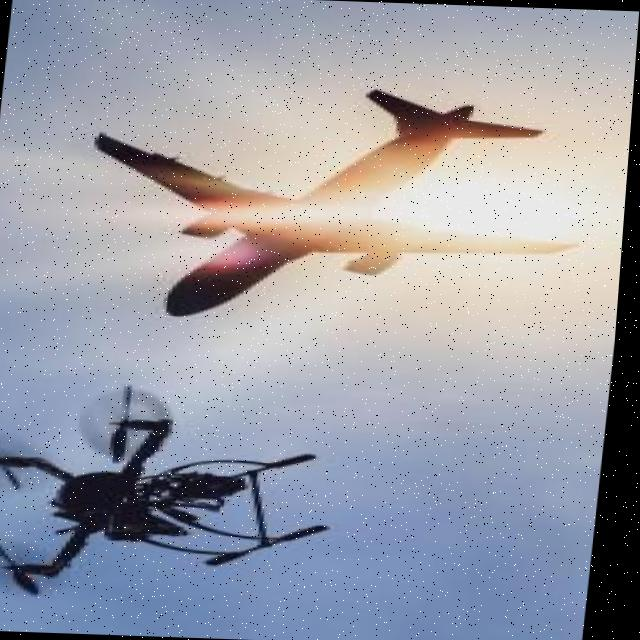drones: (0, 377, 421, 629)
